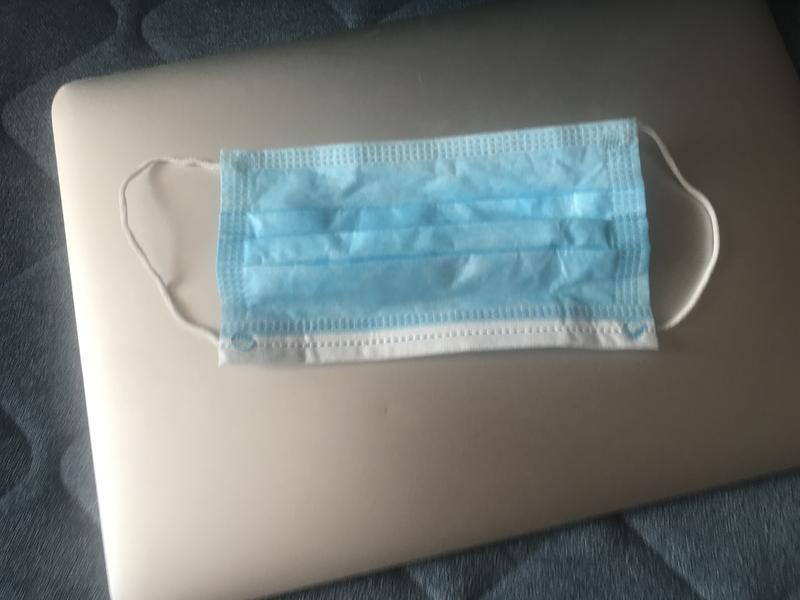medical_mask: (119, 117, 717, 359)
